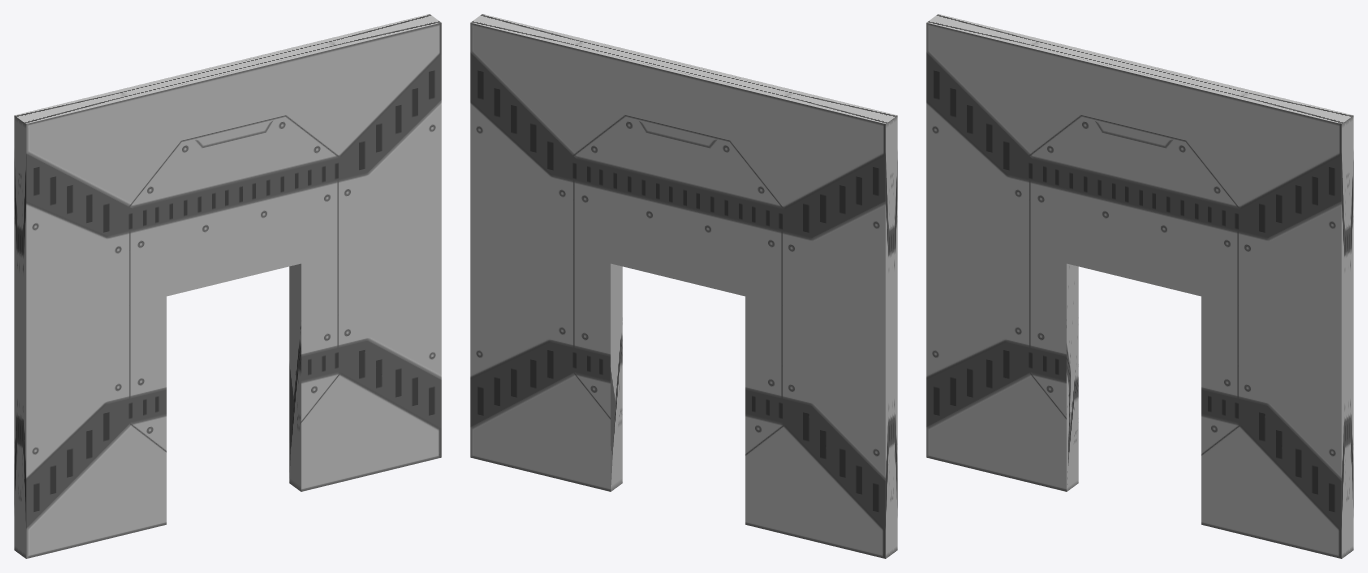
Rendered from armoury_doorway.FBX.
3 renders of one model, left to right at view 1: azimuth 30°, elevation 25°; view 2: azimuth 150°, elevation 25°; view 3: azimuth 330°, elevation 25°, orthographic.
Parts seen in each view (by area): view 1: doorway; view 2: doorway; view 3: doorway.
Boxes of the visible parts, x1,y1,x2,y2 form: doorway: (14, 14, 441, 558); doorway: (470, 14, 897, 558); doorway: (926, 14, 1353, 558).
Size of what is drawn, in the model's own units: 400 by 20 by 400.
